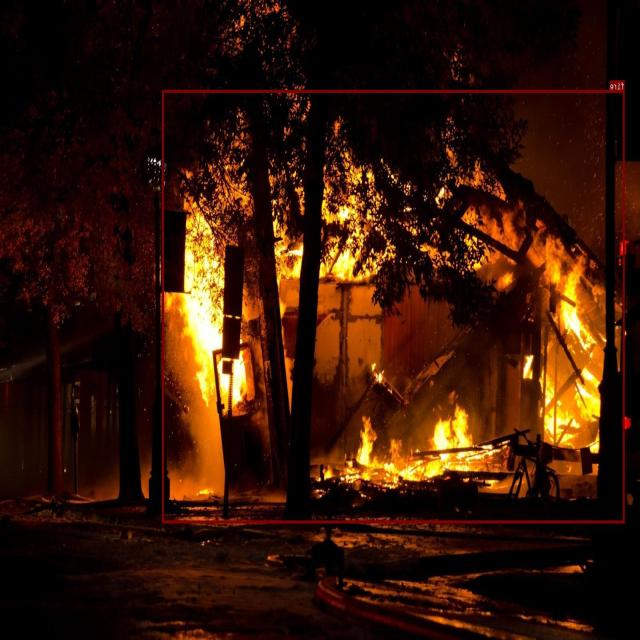fire: (162, 90, 624, 522)
